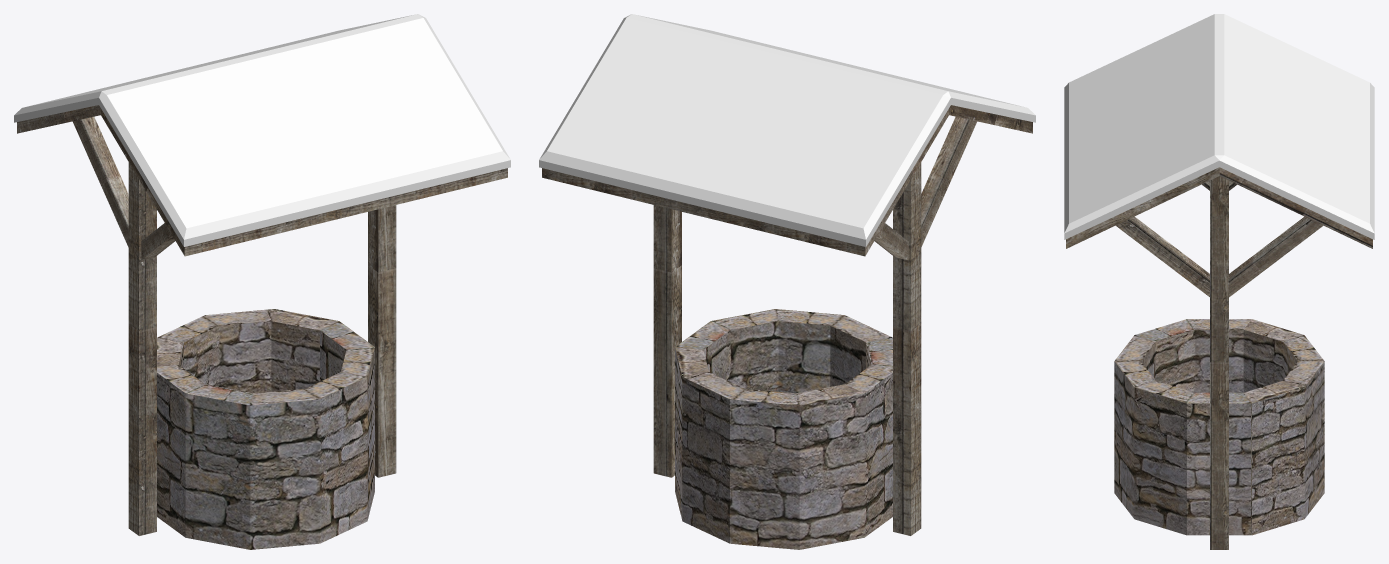
The model's file is Well.fbx.
3 renders of one model, left to right at view 1: azimuth 30°, elevation 25°; view 2: azimuth 150°, elevation 25°; view 3: azimuth 270°, elevation 25°, orthographic. The views are drawn at different scales.
Visible parts, largest first — view 1: Well, Snow; view 2: Well, Snow; view 3: Well, Snow.
Boxes of the visible parts, box(x1,y1,x2,y2) form: Well: box(17, 105, 507, 549); Snow: box(14, 14, 510, 246); Well: box(542, 105, 1032, 549); Snow: box(539, 14, 1035, 246); Well: box(1066, 167, 1372, 549); Snow: box(1064, 14, 1374, 239).
Bounding box in the file's own units: 328 × 429 × 295.
